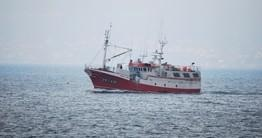otherboat: (85, 39, 204, 95)
